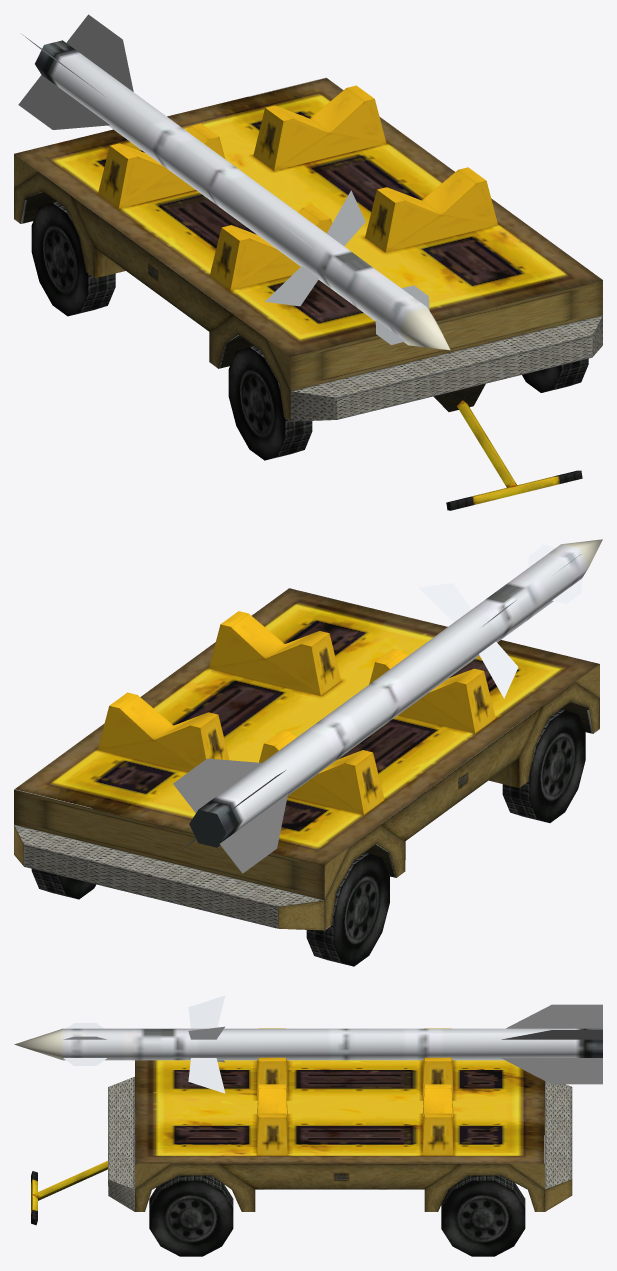
File: MISSLE_TRUCK.glb
3 renders of one model, top to bottom at view 1: azimuth 30°, elevation 25°; view 2: azimuth 150°, elevation 25°; view 3: azimuth 270°, elevation 25°, orthographic. The views are drawn at different scales.
Parts seen in each view (by area): view 1: MISSLE_TRUCK; view 2: MISSLE_TRUCK; view 3: MISSLE_TRUCK.
Boxes of the visible parts, x1,y1,x2,y2 form: MISSLE_TRUCK: [14, 14, 602, 510]; MISSLE_TRUCK: [14, 539, 602, 966]; MISSLE_TRUCK: [14, 995, 602, 1256].
Size of the model in its own units: 2.09 by 1.4 by 4.6.
1 material, 1 textured.
